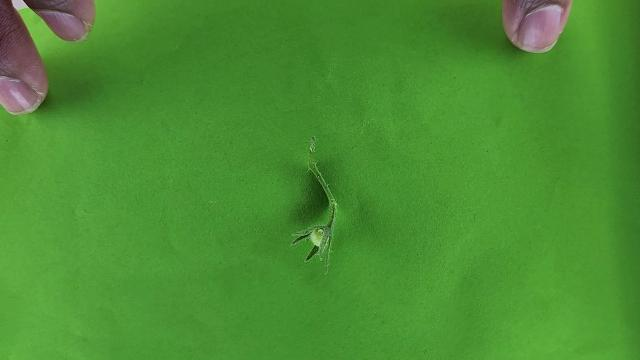Fruit Bud: (289, 224, 329, 263)
